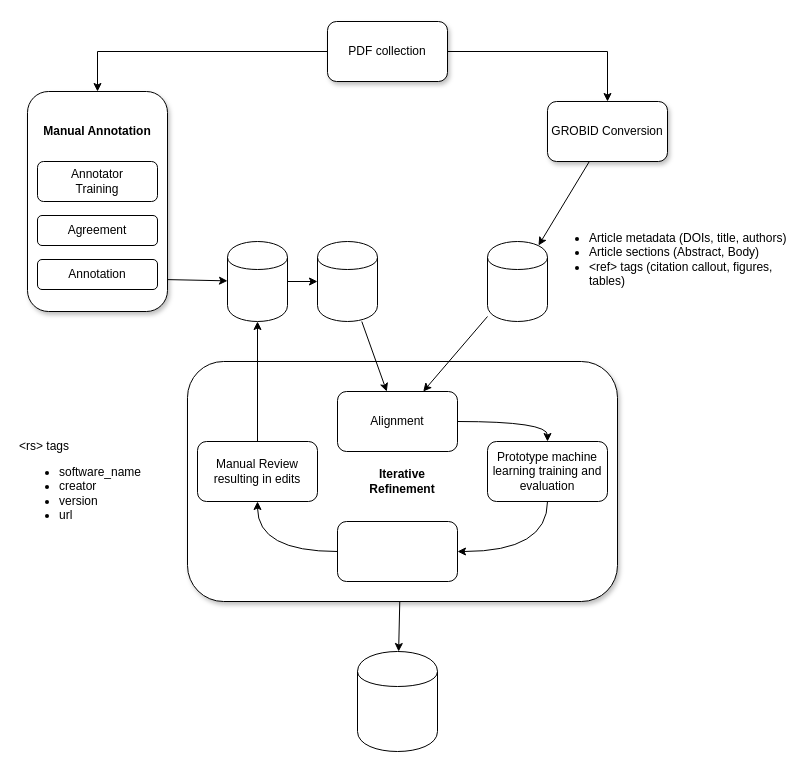
This 804x769 diagram has some shape labels left out. Here are the shapes that lost their labels. From the top down, the centre of each, then its label:
the point at 257,281: RDF Files
the point at 347,281: CSV Files
the point at 517,281: TEI XML Files
the point at 397,551: Consistency Improvement
the point at 397,701: TEI XML Annotated Corpus File
